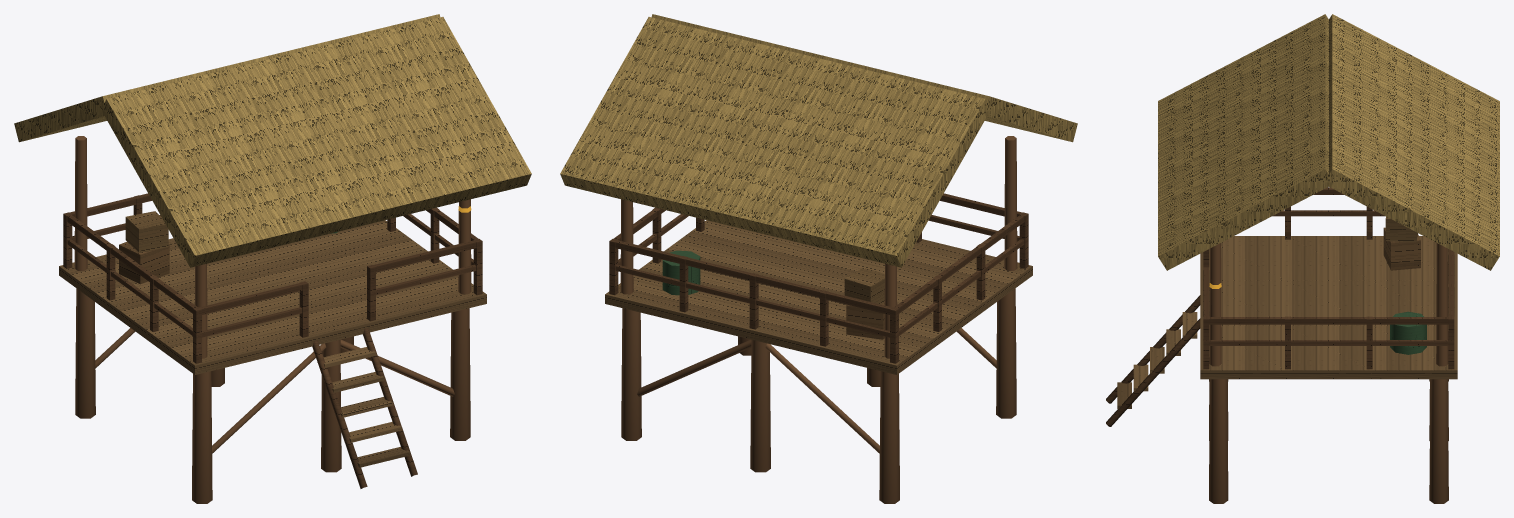
The model's file is posto_avancado.glb.
The picture shows the model from 3 angles, left to right: view 1: azimuth 30°, elevation 25°; view 2: azimuth 150°, elevation 25°; view 3: azimuth 270°, elevation 25°; orthographic projection. The views are drawn at different scales.
Visible parts, largest first — view 1: posto_avancado, posto_avancado_liso; view 2: posto_avancado, posto_avancado_liso; view 3: posto_avancado, posto_avancado_liso.
Part boxes in pixels (x1,y1,x2,y2): posto_avancado: (14, 14, 531, 488); posto_avancado_liso: (74, 136, 471, 503); posto_avancado: (560, 14, 1077, 374); posto_avancado_liso: (620, 136, 1017, 503); posto_avancado: (1106, 14, 1499, 426); posto_avancado_liso: (1209, 243, 1448, 503).
Size of the model in its own units: 6 by 6.29 by 6.43.
Materials: 5 (3 with a texture image).
